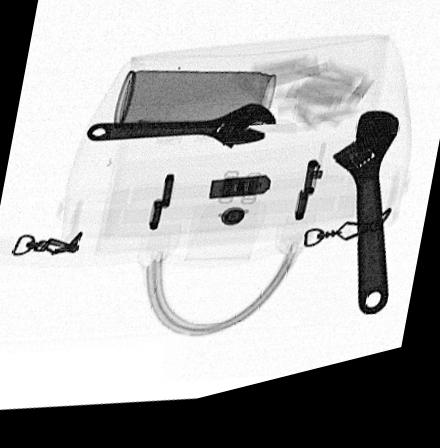Wrench: (332, 129, 399, 334), (84, 114, 276, 162)
